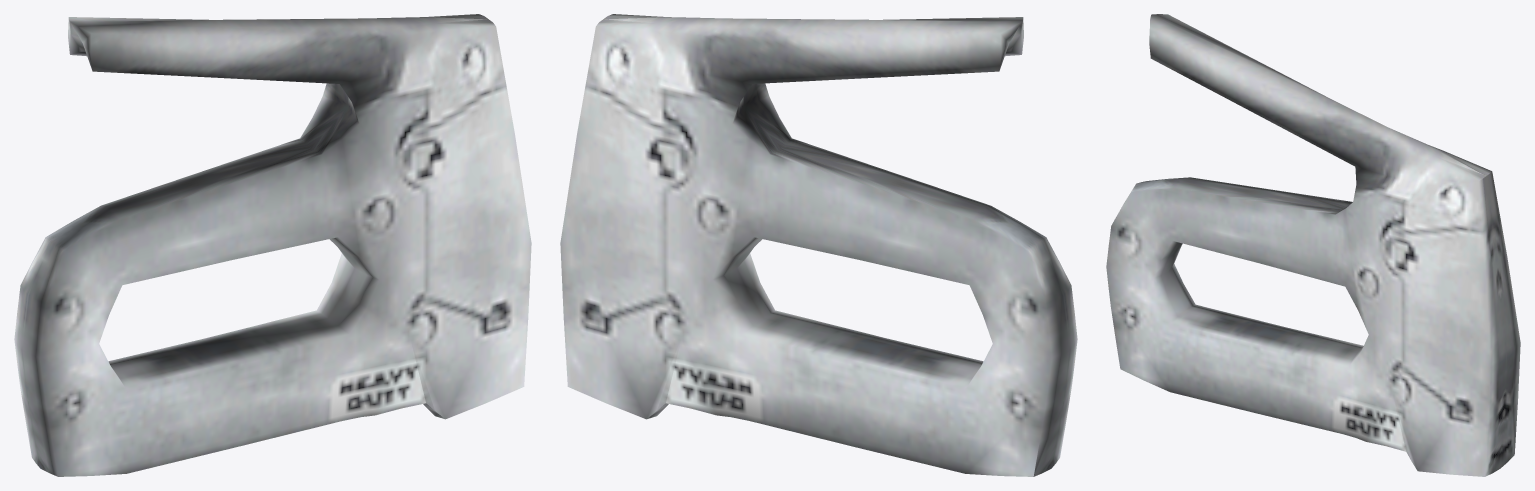
The model's file is game.icn.obj.
3 views of the same model, side by side, from view 1: azimuth 30°, elevation 25°; view 2: azimuth 150°, elevation 25°; view 3: azimuth 330°, elevation 25° (orthographic). The views are drawn at different scales.
Bounding box in the file's own units: 4.91 × 4.5 × 0.7432.
1 material, 1 textured.
